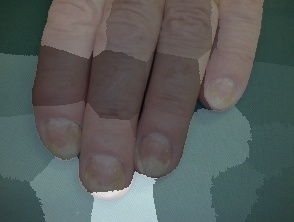Nail_psoriasis: (73, 143, 141, 209), (122, 120, 186, 186), (38, 109, 84, 165), (198, 71, 246, 115)
